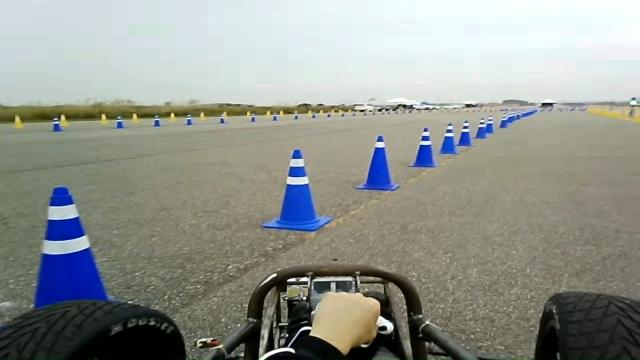blue cone: (33, 186, 110, 309), (261, 148, 333, 231), (355, 135, 400, 191), (408, 127, 438, 167), (439, 122, 459, 154), (456, 120, 474, 146), (474, 116, 489, 138), (485, 115, 495, 134), (52, 117, 62, 131), (114, 116, 124, 128), (185, 114, 193, 125)
yellow cone: (14, 115, 24, 128), (59, 113, 68, 126), (152, 115, 161, 127), (100, 113, 108, 124), (131, 112, 139, 123), (168, 112, 176, 121)
